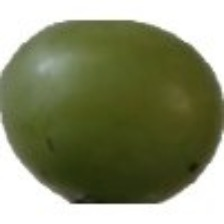grapes: (55, 57, 208, 212)
